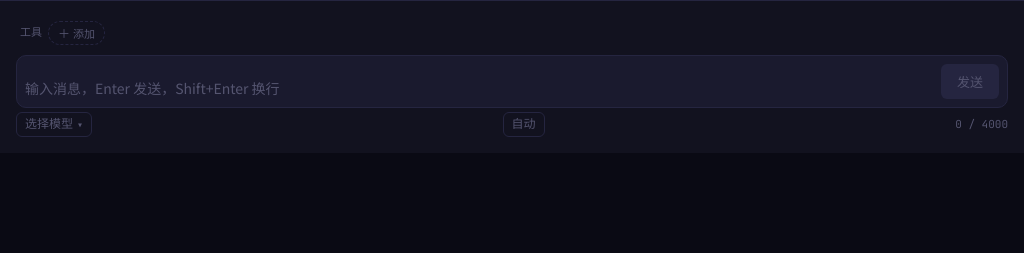
Scenario: MessageInput /skill 技能列表选择 › 输入 /skill 部分技能名时过滤列表
Type "/skill 数据" into the text box with placeholder "输入消息，Enter 发送，Shift+Enter 换行" at (479, 88), box top-left (25, 77), bottom-right (933, 99)
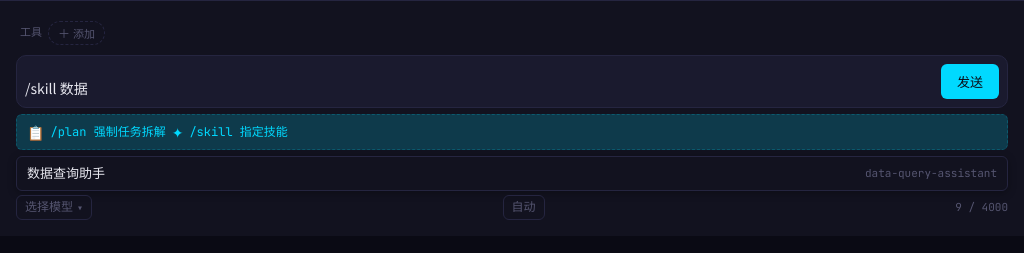
Expected: the number of elements with class "skill-suggest-item" is 1, top-left (27, 163), bottom-right (997, 182)
Expected: the element with class "skill-suggest-item" shows "数据查询助手", top-left (27, 163), bottom-right (105, 182)
